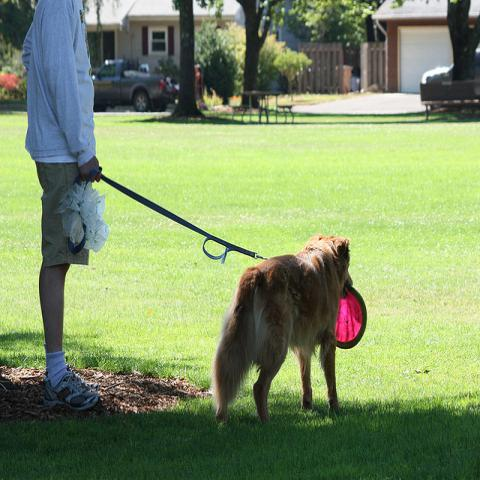car: (421, 61, 454, 84)
truck: (93, 60, 167, 114)
